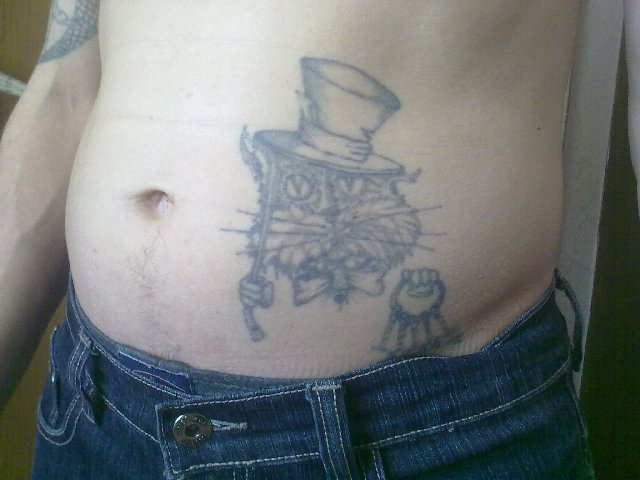tatu8_kot: (210, 43, 470, 354)
